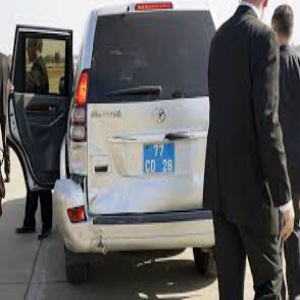bumper_scratch: (74, 72, 277, 160)
